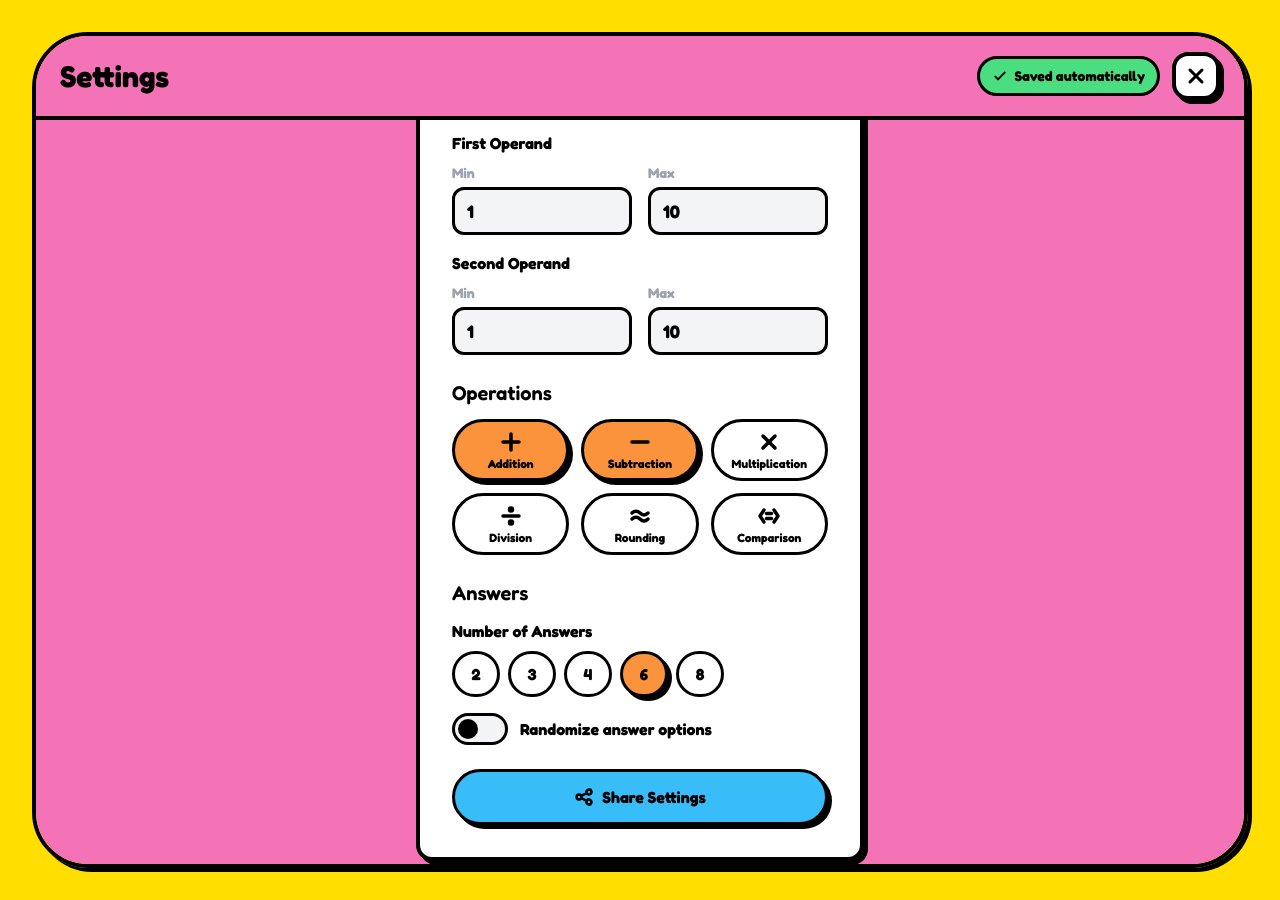
Test: Settings Page › shows the autosave status and turns it red when settings cannot be stored
(page scrolled)
Expected: the message with test id "autosave-status" reads "Saved automatically", [1014,67,1145,84]
Click the button titled "Multiplication" at (769,450), box [711,419,828,481]
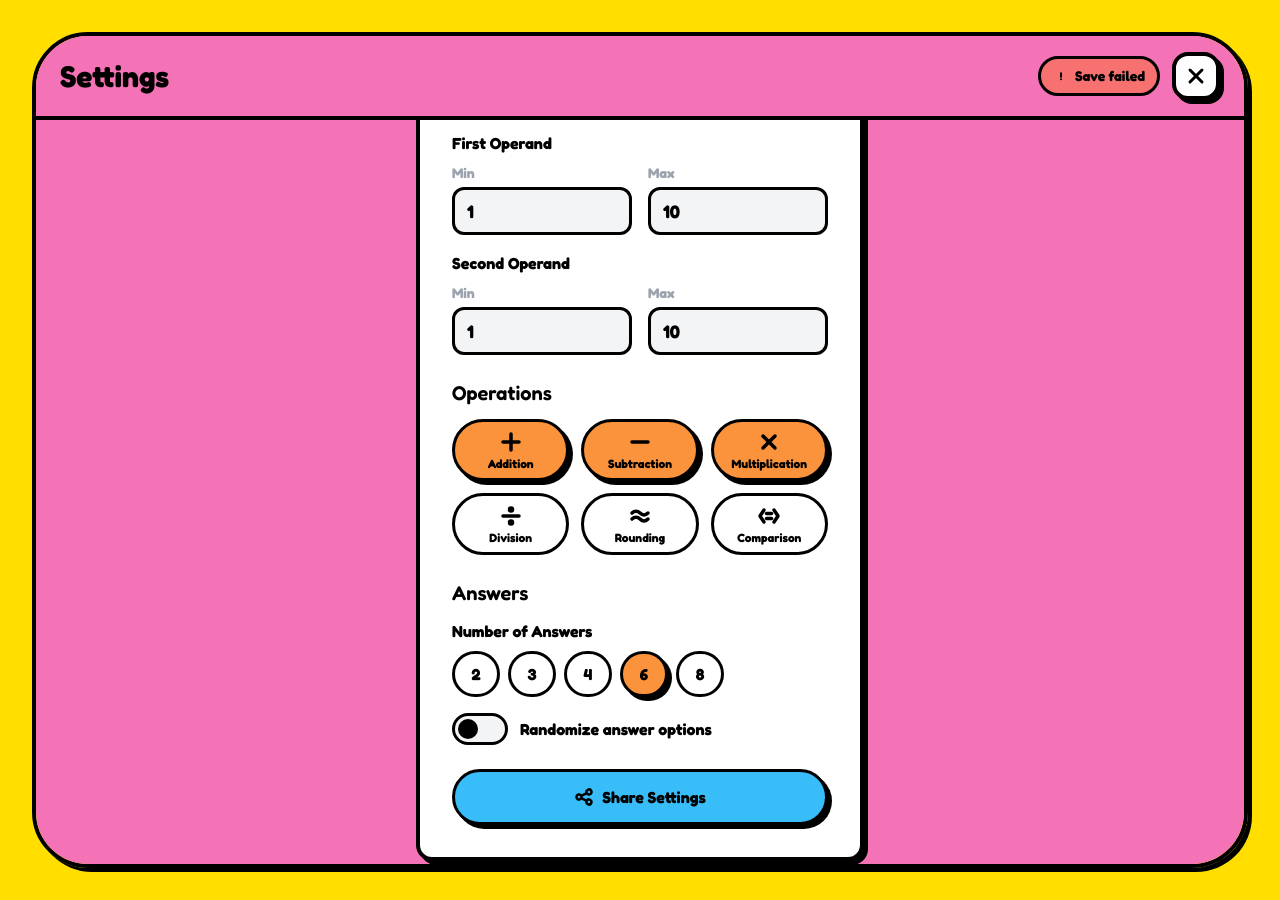
Now the message with test id "autosave-status" reads "Save failed", box [1075,67,1145,84]
Click the button titled "Division" at (511,524), box [452,493,569,555]
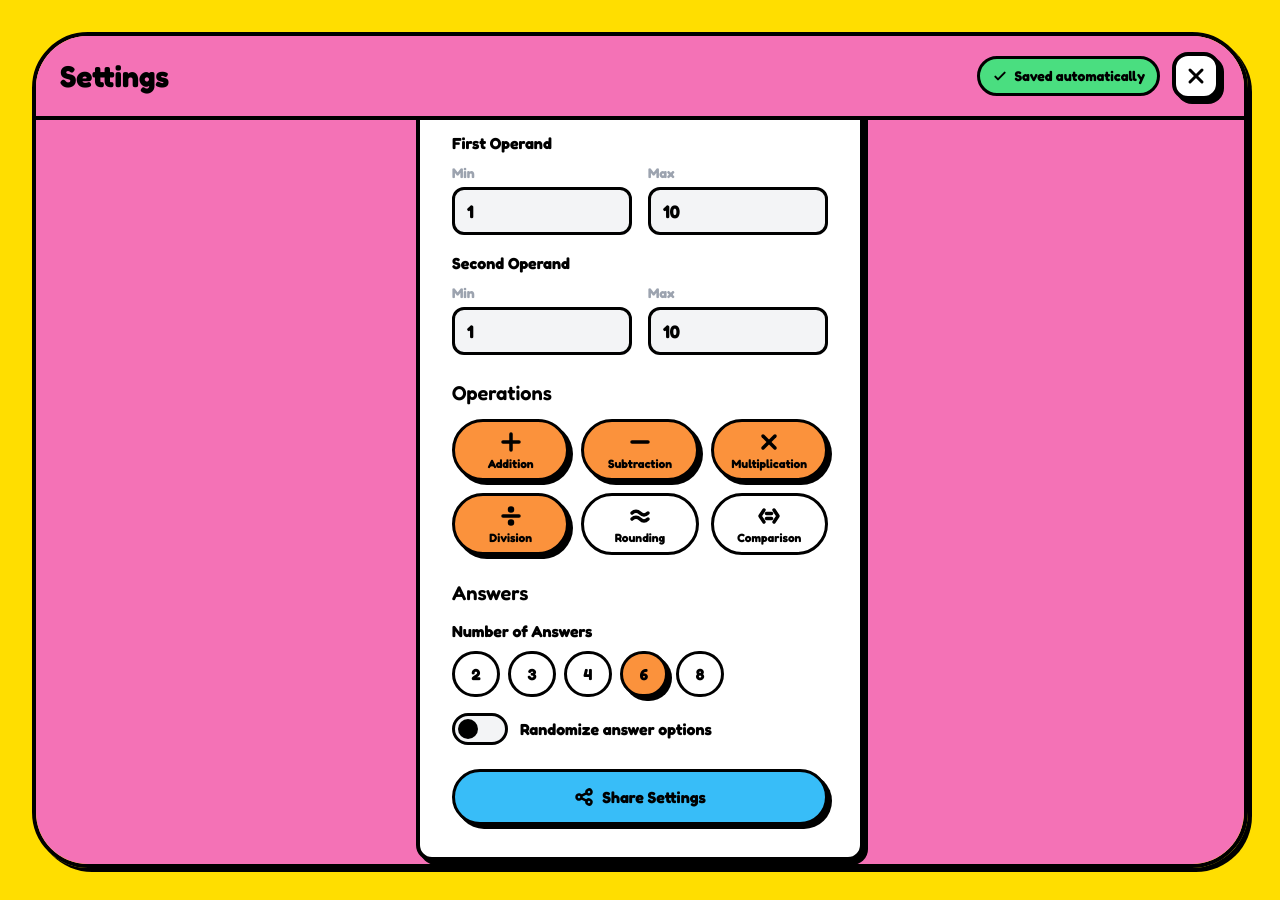
Now the message with test id "autosave-status" has attribute data-status="success", box [978,56,1160,96]
